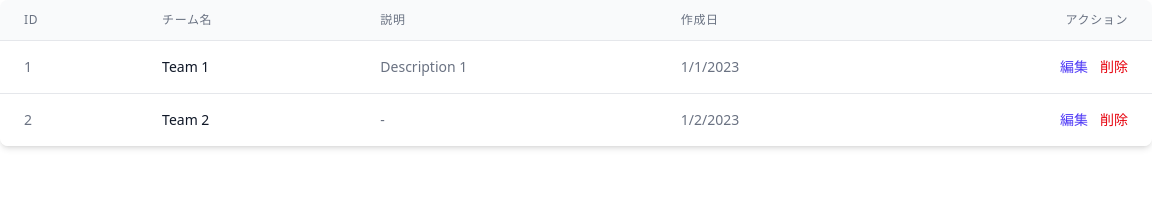
TeamList Component › should cancel edit mode when cancel button is clicked
The image size is (1152, 211).
Expected: the text "Team 1" is shown, 162,57 -> 209,76
# Click edit button for the first team
Click the button "編集" in the row of "Team 1".
click(1074, 67)  # box 1060,57 -> 1088,77
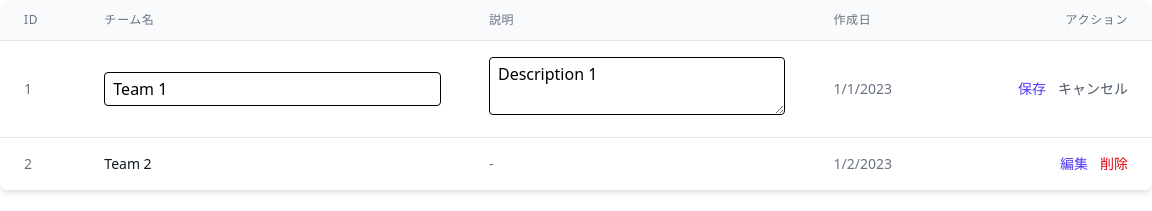
# Get form inputs and change values
Replace the text in the field showing "Team 1" with "Updated Team 1" at (273, 89), box 104,72 -> 441,106
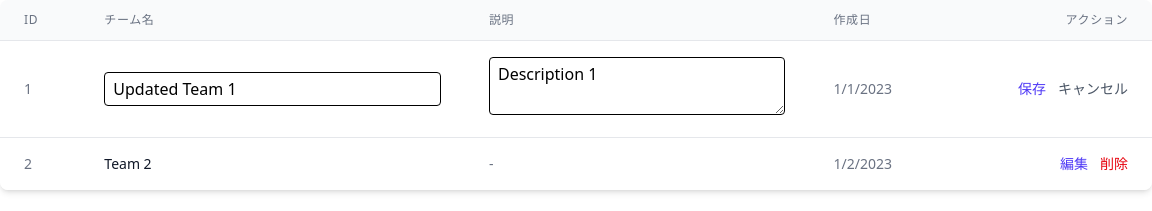
# Click cancel button
Click the button "キャンセル".
click(1093, 89)  # box 1058,79 -> 1128,99
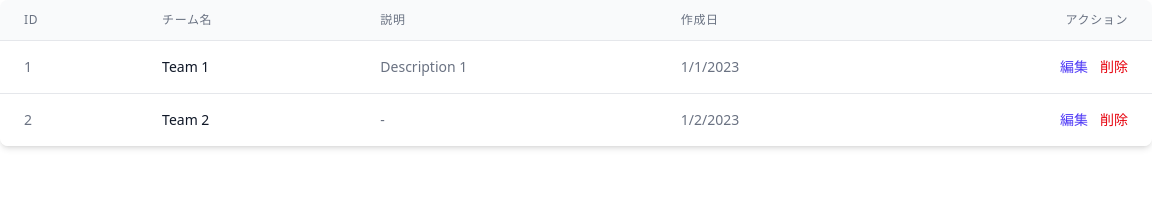
Expected: the button "保存" is gone
Expected: the button "キャンセル" is gone
Expected: the text "Team 1" is shown, 162,57 -> 209,76
